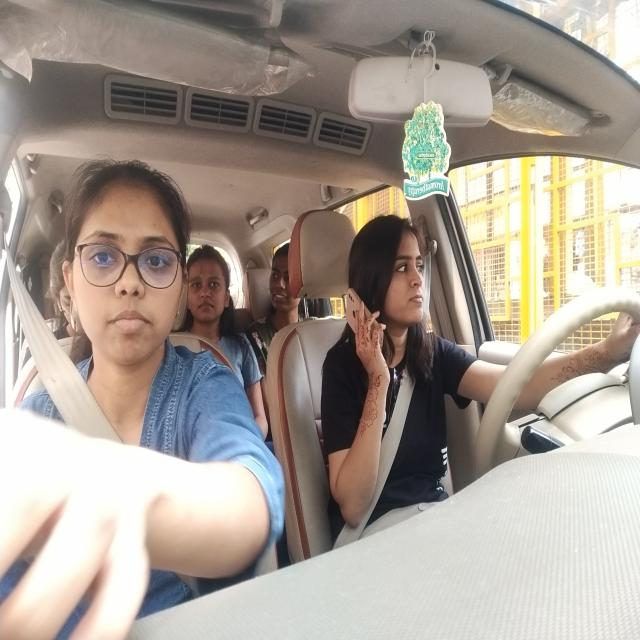mobile: (343, 286, 384, 358)
person: (61, 155, 184, 389), (348, 214, 429, 351), (186, 244, 233, 335), (267, 239, 306, 326), (47, 238, 74, 333)
